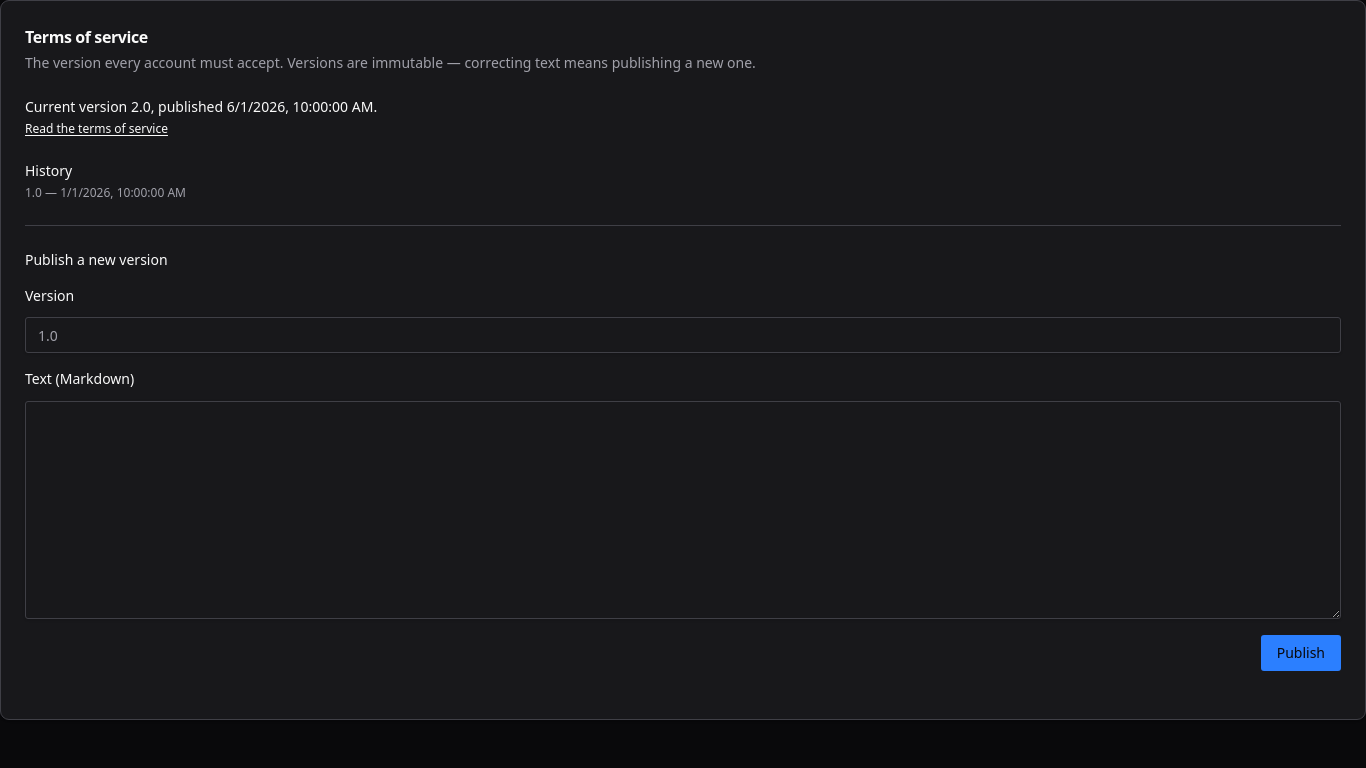
Test: TermsSettingsSection › maps a duplicate version onto the version field, not the form
Type "2.0" into the field labelled "Version".
click(683, 335); type("2.0")  # box [25,317,1341,353]
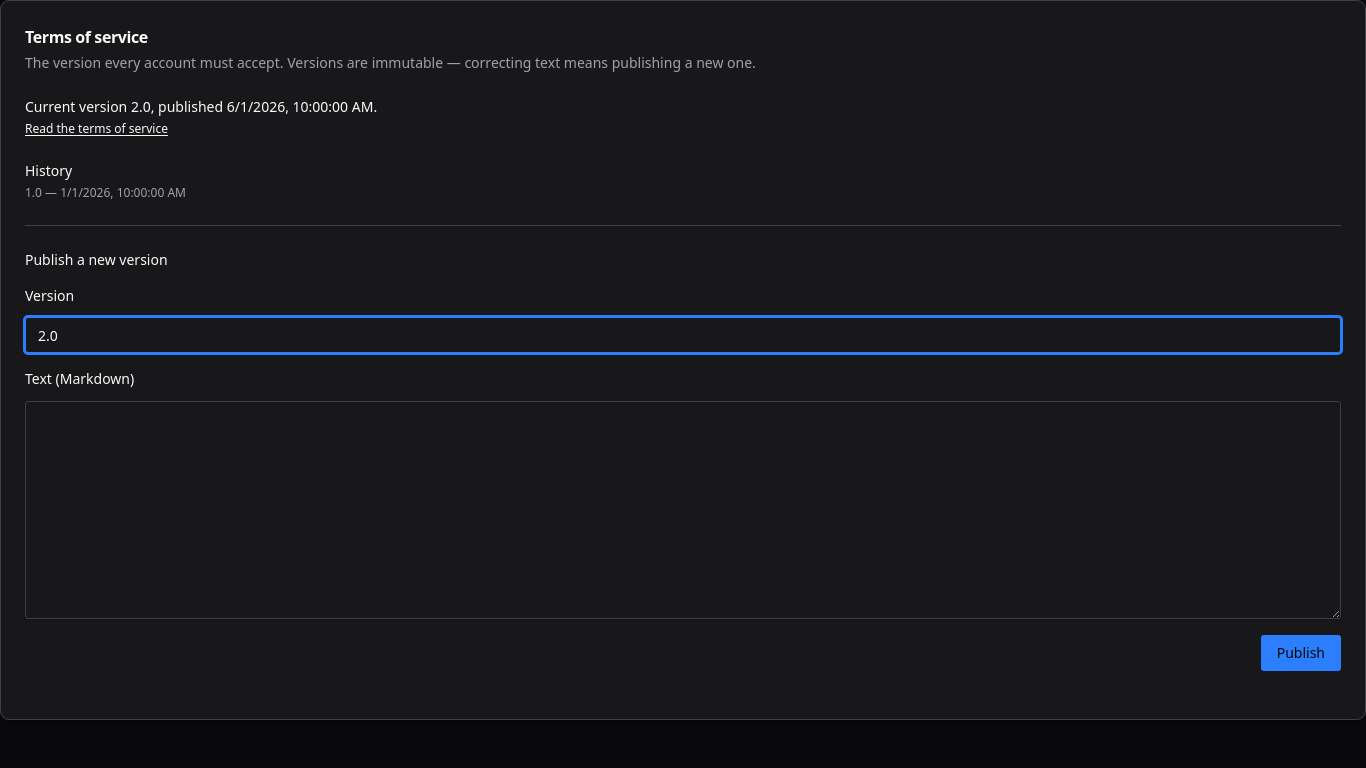
Type "Clashing." into the text box labelled "Text (Markdown)".
click(683, 510); type("Clashing.")  # box [25,400,1341,618]
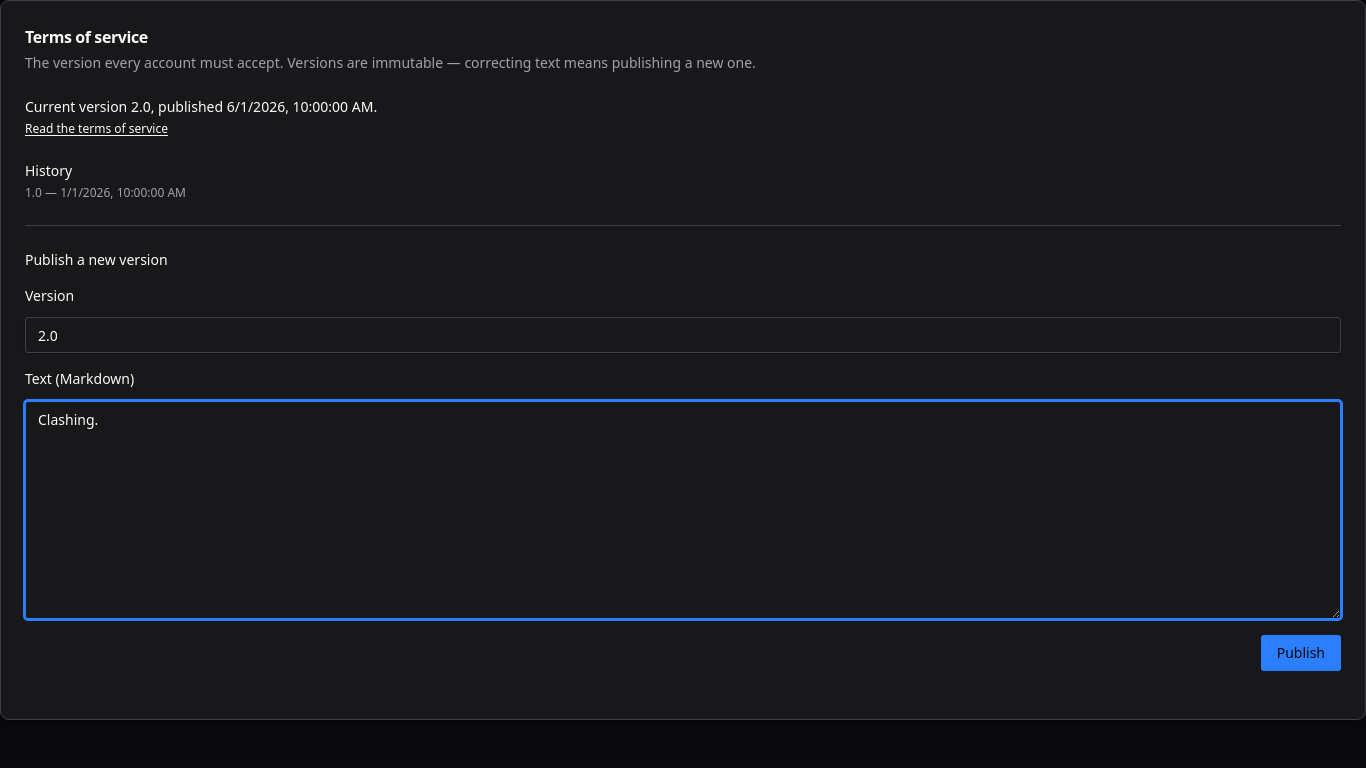
Click the button "Publish".
click(1301, 652)  # box [1261,634,1341,670]
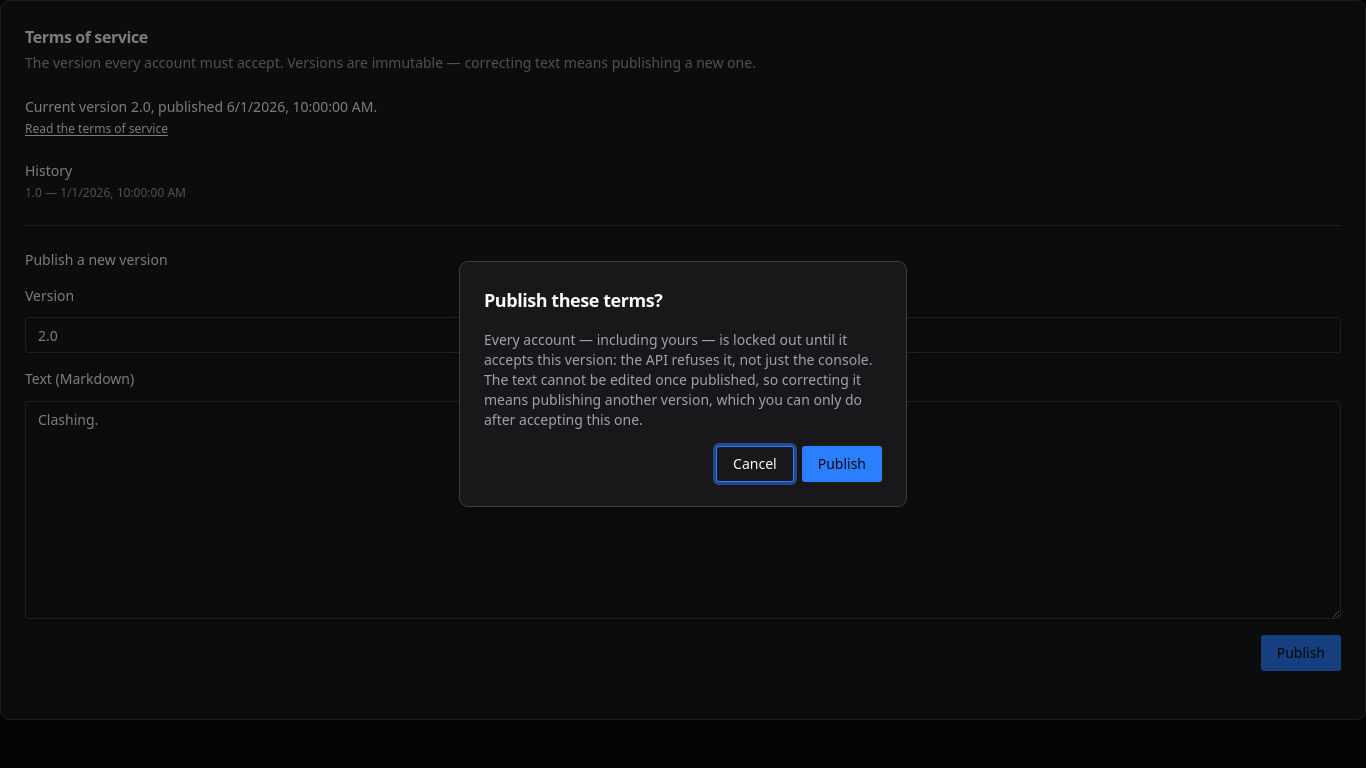
Click the button "Publish".
click(842, 464)  # box [802,446,882,482]
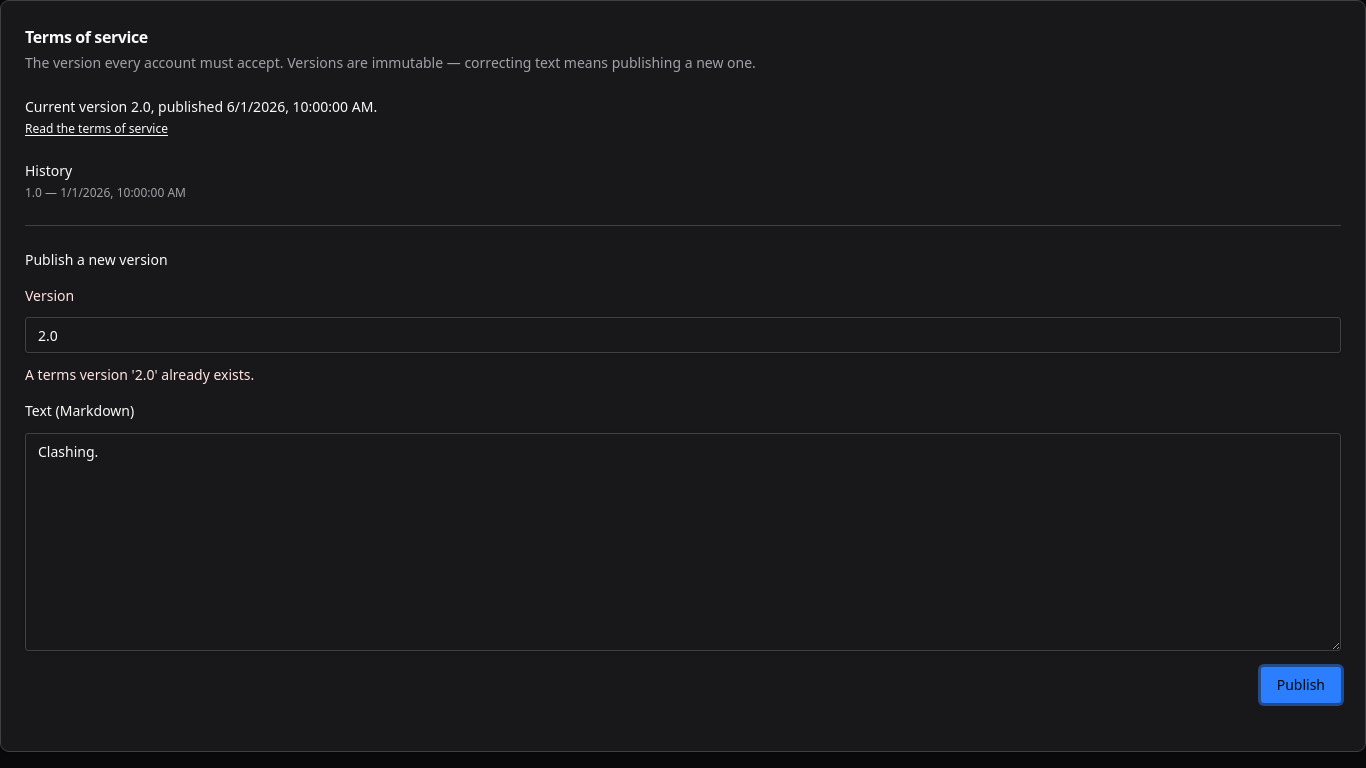
Expected: the number of messages is 1, [25,365,254,384]
